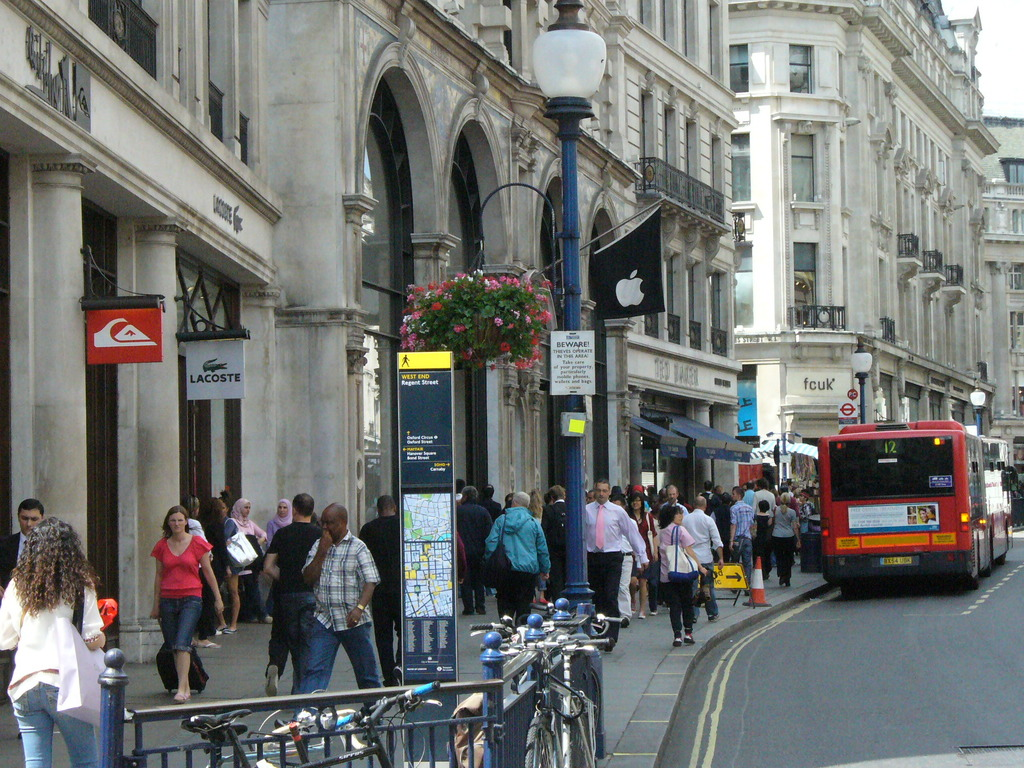Bus: (819, 416, 1014, 590)
